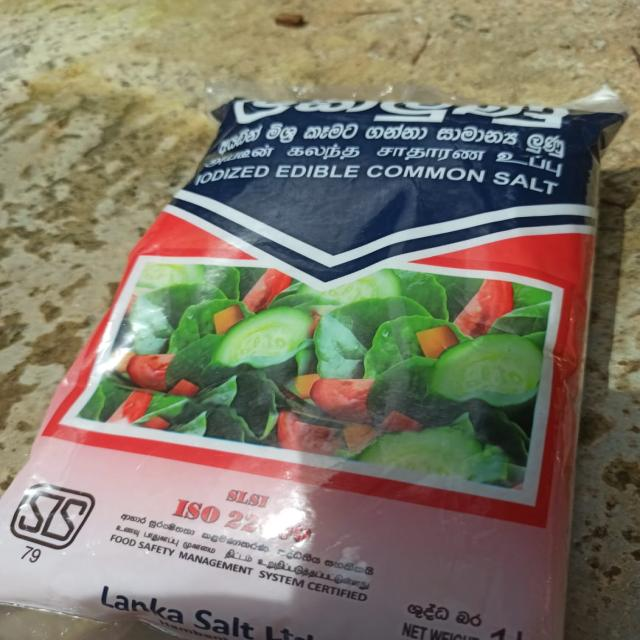Lak Lunu: (43, 51, 640, 640)
